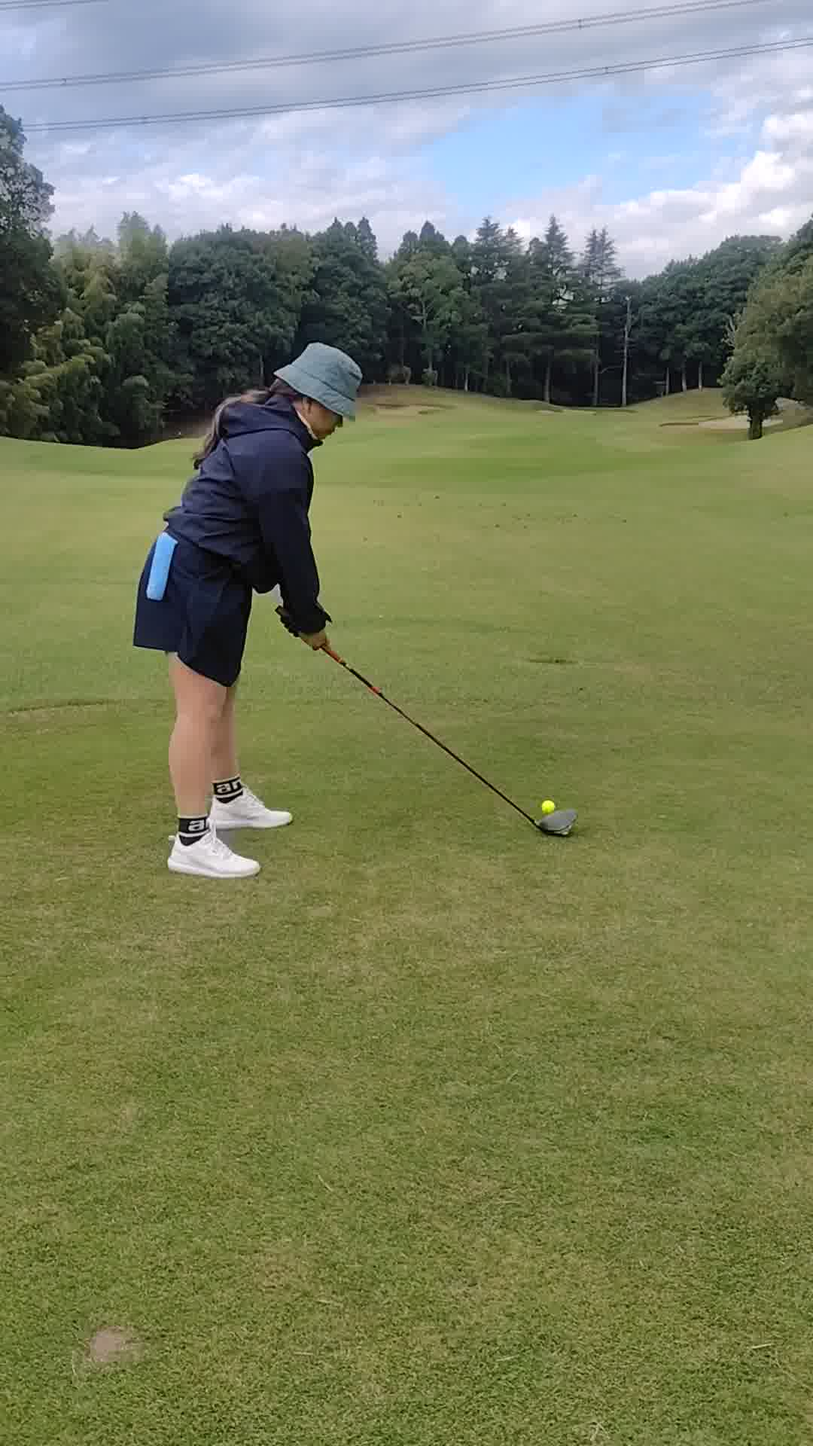clubhead: (406, 725, 681, 918)
